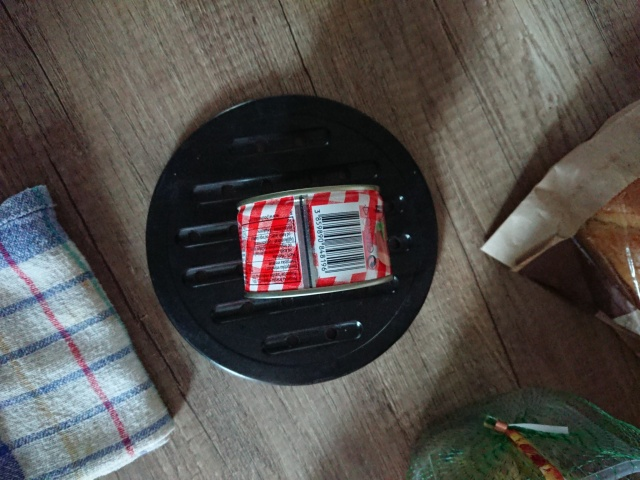Podravka Luncheon Meat 150g: (233, 181, 396, 302)
